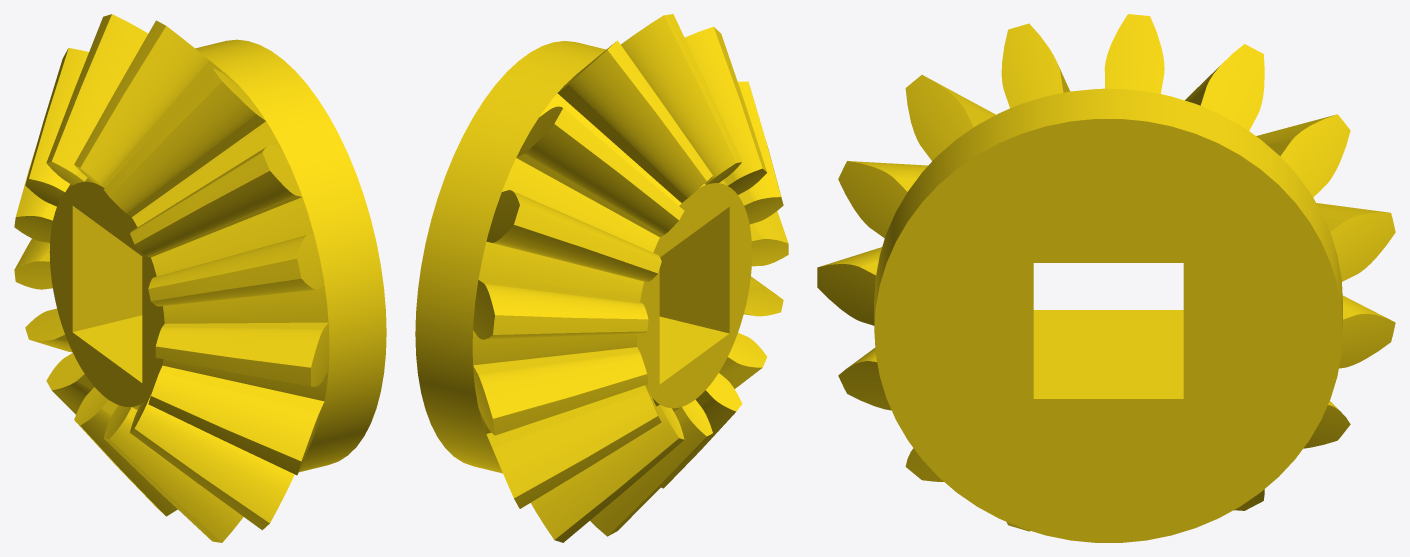
Rendered from A26_H105_drivenGear.gltf.
The picture shows the model from 3 angles, left to right: view 1: azimuth 30°, elevation 25°; view 2: azimuth 150°, elevation 25°; view 3: azimuth 270°, elevation 25°; orthographic projection. The views are drawn at different scales.
Visible parts, largest first — view 1: mesh584, mesh592, mesh557, mesh481, mesh594, mesh477, mesh565, mesh549, mesh575, mesh586, mesh583, mesh489 (+35 smaller); view 2: mesh584, mesh592, mesh517, mesh597, mesh553, mesh561, mesh525, mesh509, mesh545, mesh535, mesh543, mesh569 (+37 smaller); view 3: mesh593, mesh584, mesh596, mesh555, mesh563, mesh547, mesh571, mesh539, mesh579, mesh531, mesh587, mesh523 (+2 smaller).
Boxes of the visible parts, bbox=[...] form: mesh584: bbox=[195, 39, 386, 472]; mesh592: bbox=[49, 181, 164, 406]; mesh557: bbox=[80, 26, 209, 184]; mesh481: bbox=[134, 403, 294, 522]; mesh594: bbox=[72, 206, 142, 331]; mesh477: bbox=[151, 372, 318, 461]; mesh565: bbox=[109, 81, 256, 213]; mesh549: bbox=[52, 14, 148, 175]; mesh575: bbox=[151, 197, 313, 276]; mesh586: bbox=[156, 327, 322, 367]; mesh583: bbox=[163, 285, 328, 323]; mesh489: bbox=[110, 416, 243, 542]; mesh584: bbox=[415, 41, 605, 473]; mesh592: bbox=[637, 183, 752, 408]; mesh517: bbox=[492, 391, 657, 498]; mesh597: bbox=[659, 207, 729, 333]; mesh553: bbox=[568, 50, 706, 198]; mesh561: bbox=[621, 15, 736, 178]; mesh525: bbox=[478, 352, 646, 418]; mesh509: bbox=[531, 414, 678, 539]; mesh545: bbox=[524, 124, 678, 234]; mesh535: bbox=[478, 241, 643, 301]; mesh543: bbox=[502, 158, 659, 252]; mesh569: bbox=[685, 26, 762, 179]; mesh593: bbox=[874, 119, 1342, 542]; mesh584: bbox=[874, 88, 1342, 328]; mesh596: bbox=[1033, 310, 1183, 398]; mesh555: bbox=[1104, 14, 1164, 93]; mesh563: bbox=[1001, 23, 1063, 108]; mesh547: bbox=[1200, 44, 1264, 130]; mesh571: bbox=[905, 75, 973, 160]; mesh539: bbox=[1280, 114, 1350, 197]; mesh579: bbox=[838, 161, 907, 238]; mesh531: bbox=[1330, 212, 1395, 281]; mesh587: bbox=[817, 264, 875, 325]; mesh523: bbox=[1339, 313, 1395, 368].
Bounding box in the file's own units: 0.00675 × 0.0164 × 0.0163.
